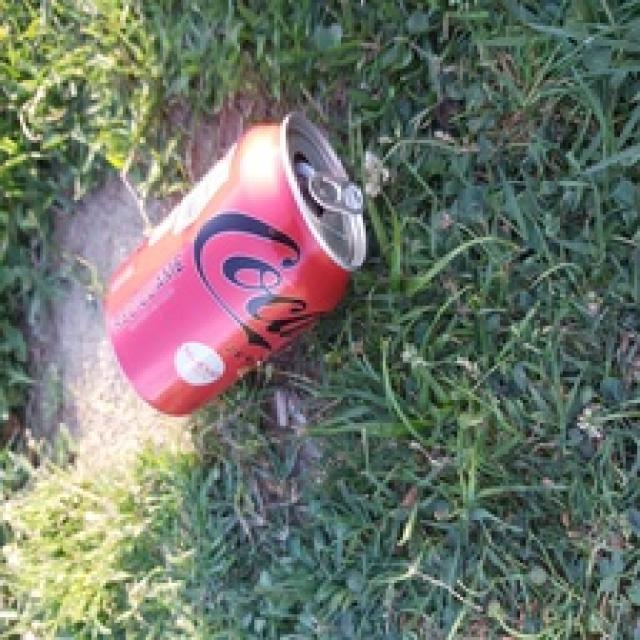recyclable: (104, 115, 367, 419)
